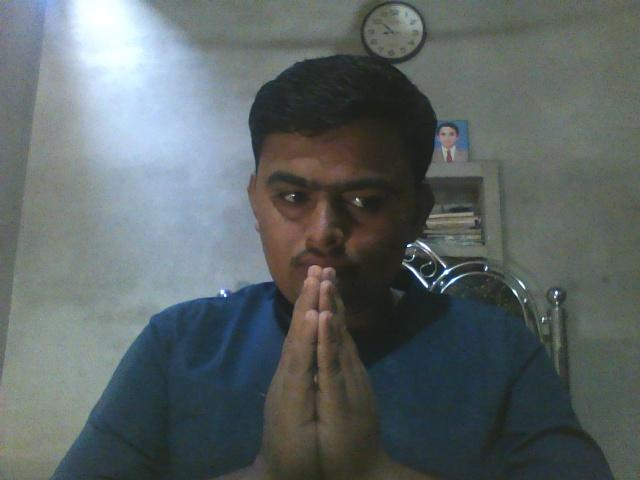Please: (251, 241, 374, 480)
